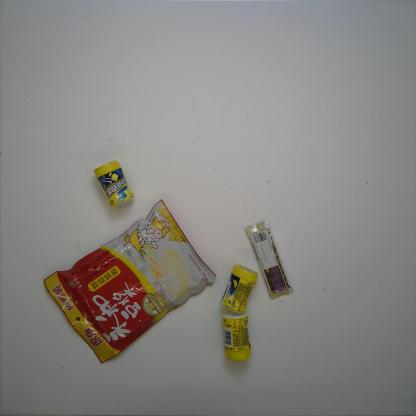Chocolate: (243, 218, 293, 303)
Gum: (218, 263, 260, 317), (91, 158, 135, 208), (218, 308, 254, 364)
Instant Drink: (41, 196, 219, 365)
